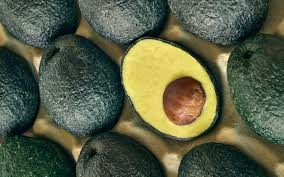avocado: (120, 37, 219, 140)
